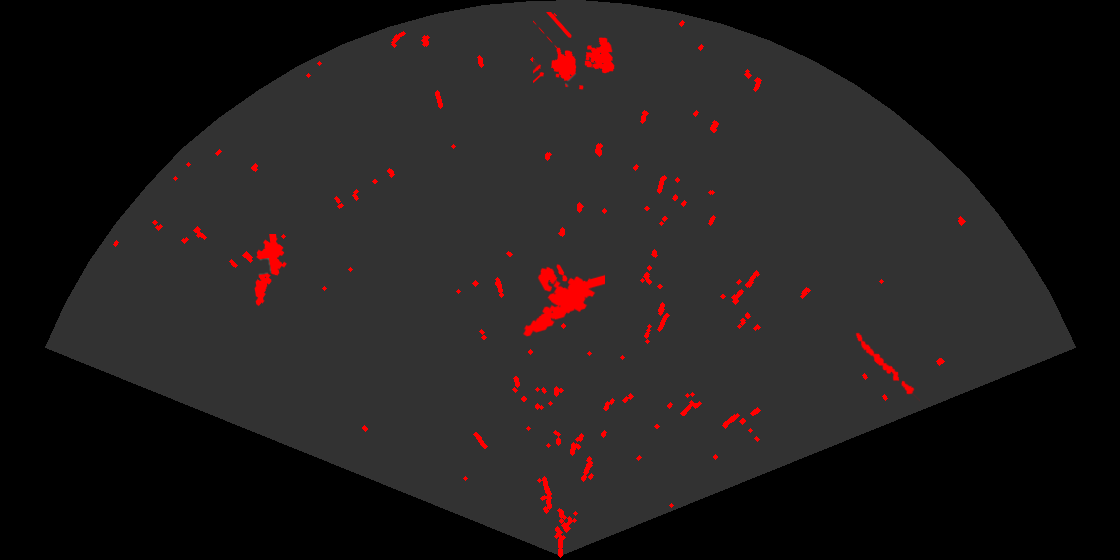ball: (536, 262, 569, 293)
cage: (533, 12, 616, 91)
chain: (854, 331, 920, 403)
frogman: (521, 273, 605, 338), (253, 234, 288, 308)
